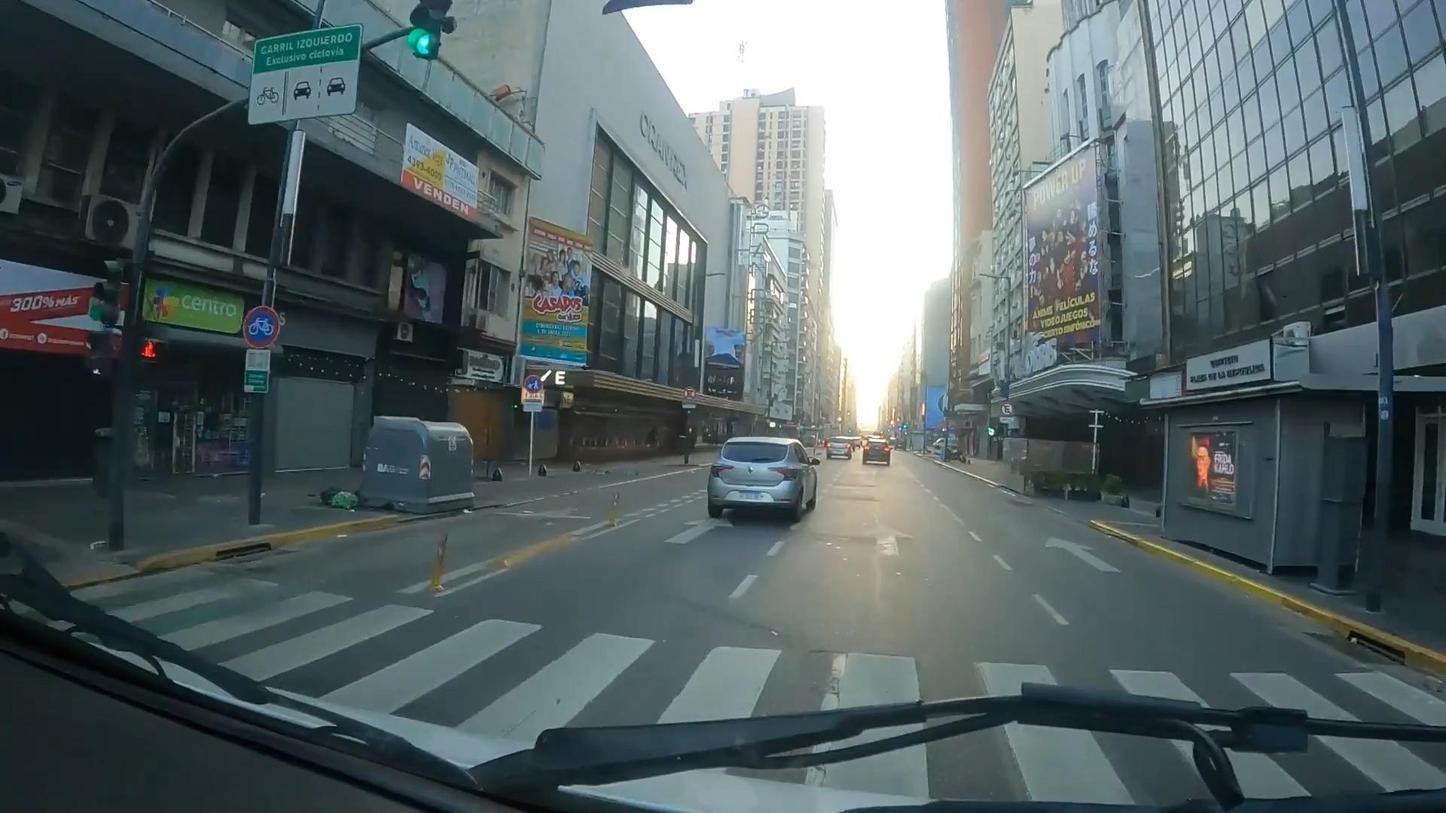dry: (86, 436, 1445, 805)
